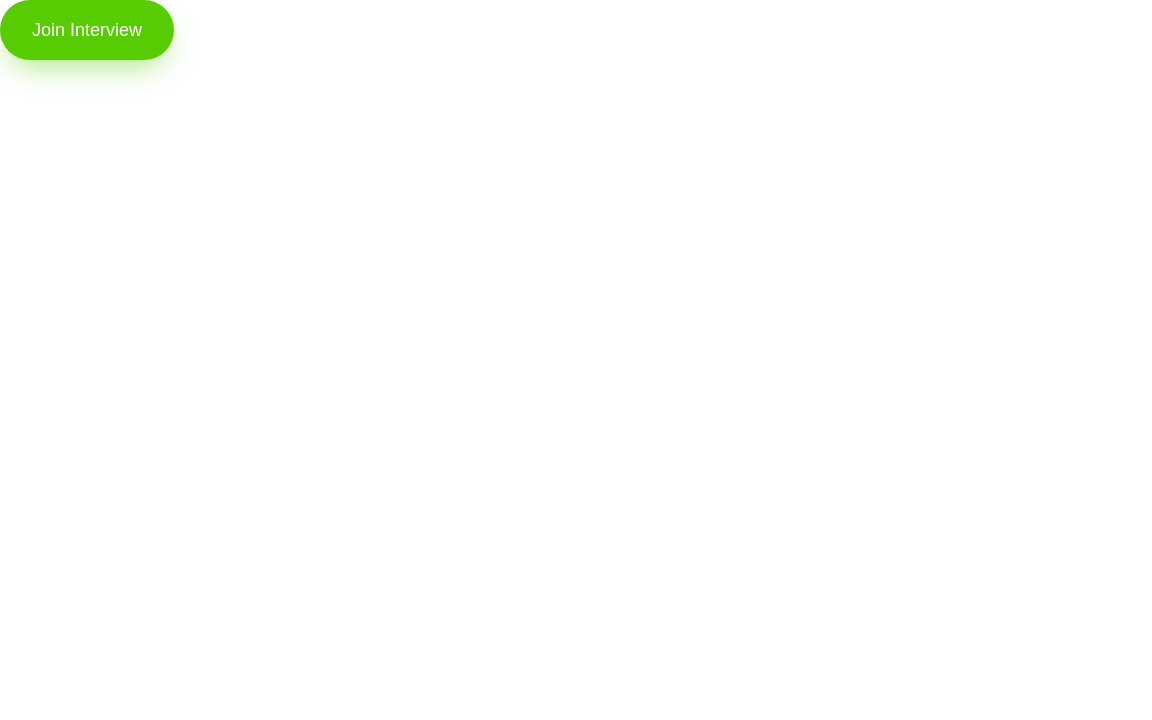
Test case: JoinInterview › closes the Participant device popup and stays on the account page
This screenshot has width=1152, height=720.
Click the button "Join Interview" at x=87, y=30, box [0,0,174,60]
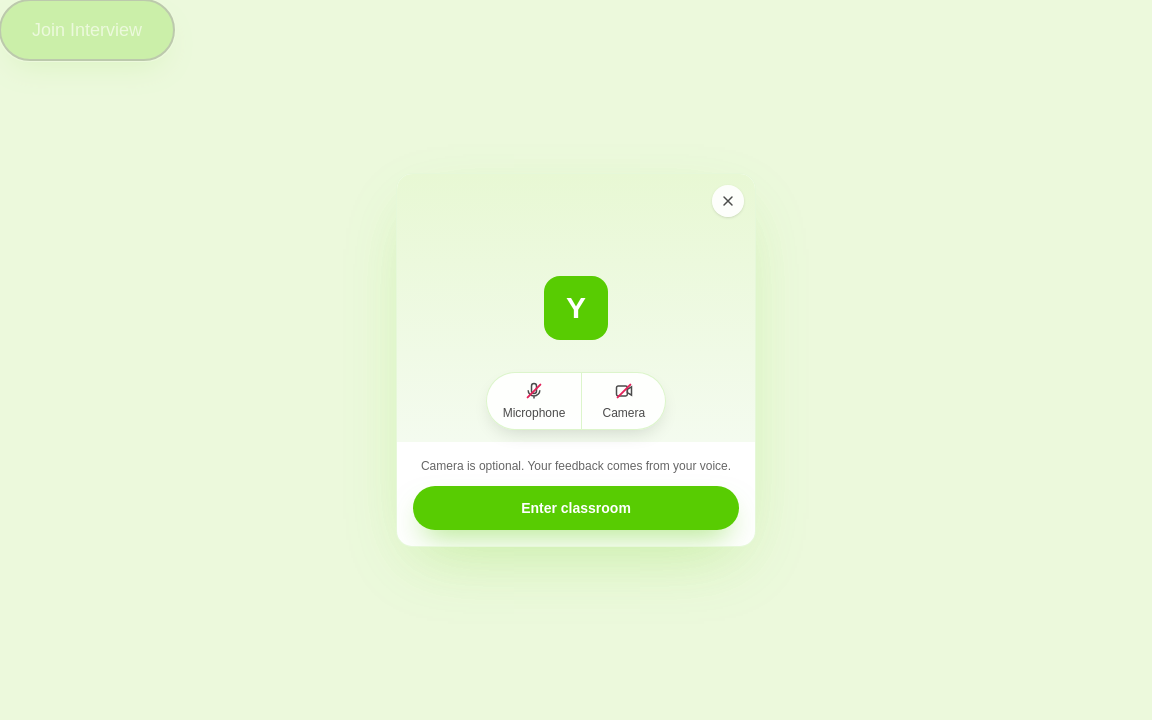
Check: the dialog named "ready to join" is shown
Click the button named "Close" at x=728, y=201, box [712,185,744,217]
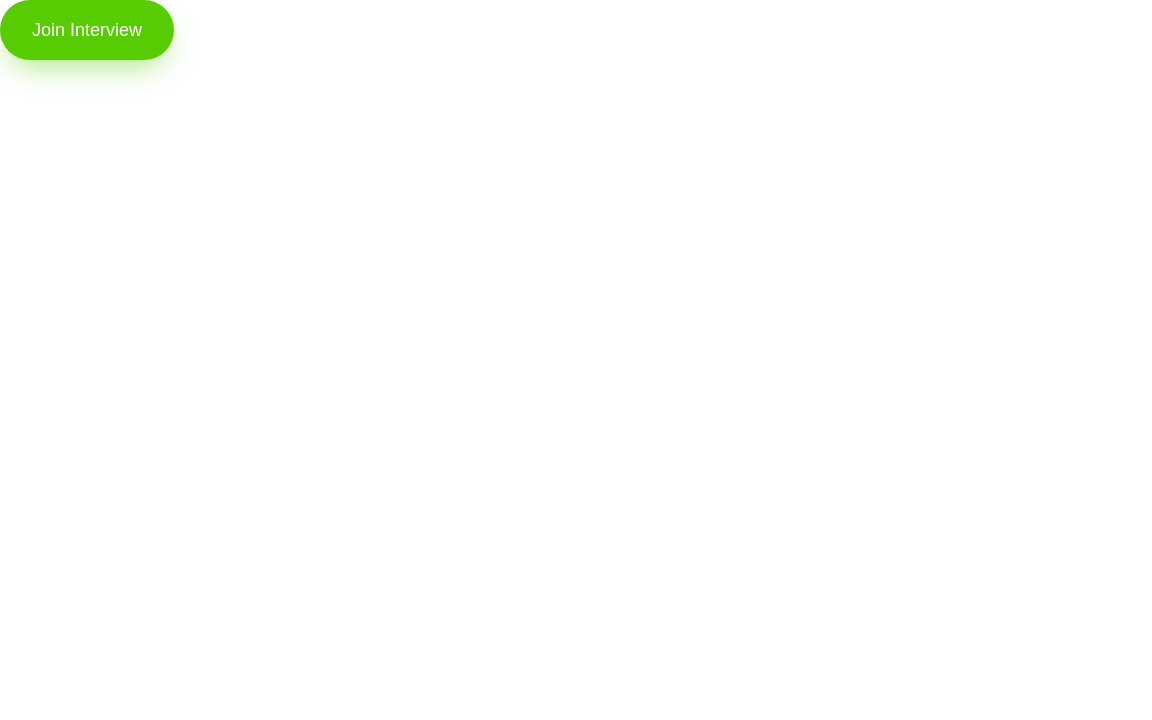
Click the button "Join Interview" at x=87, y=30, box [0,0,174,60]
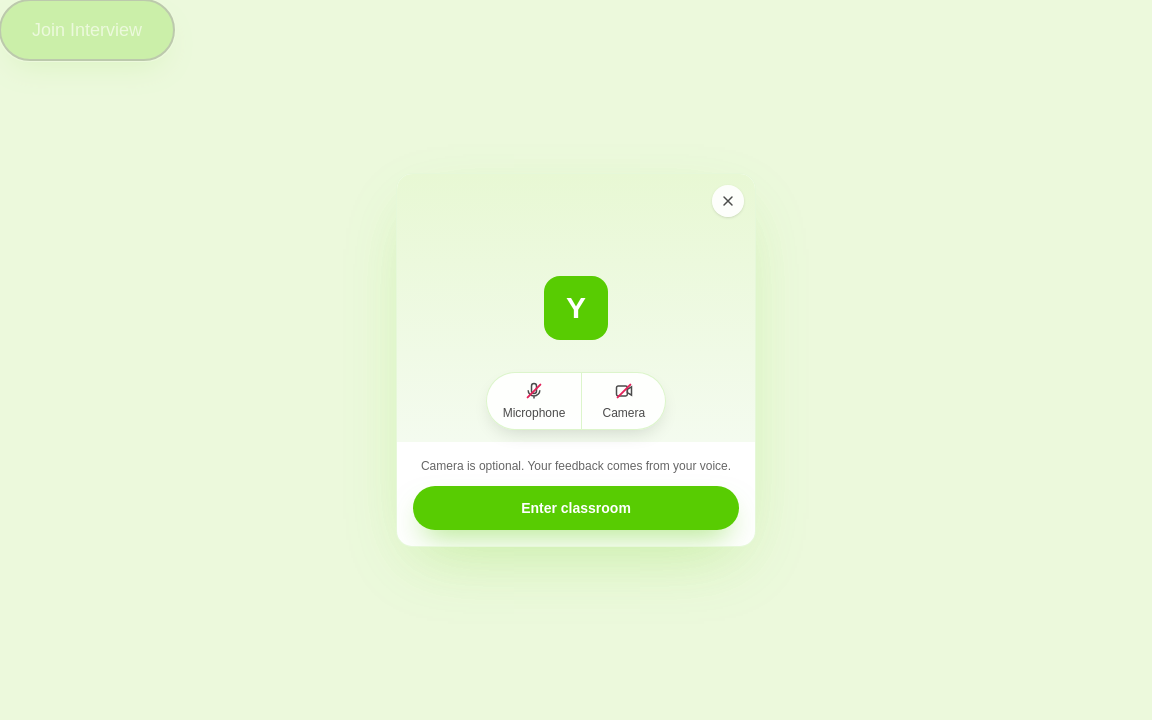
Check: the dialog named "ready to join" is shown
